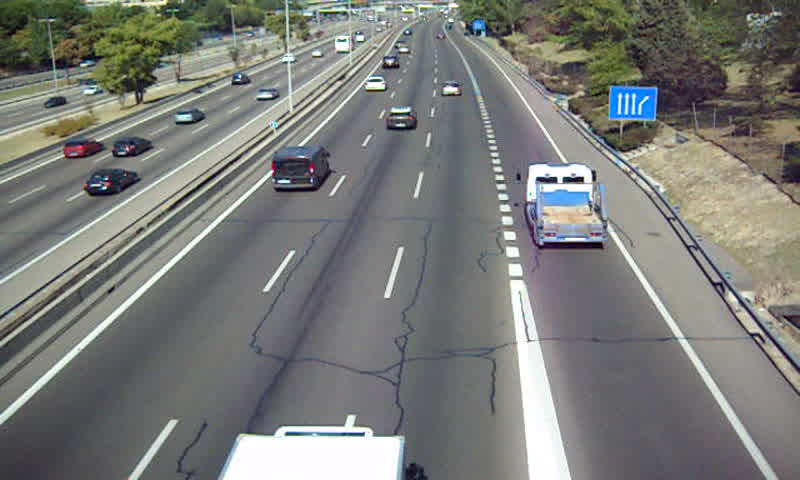car: (386, 106, 415, 131), (440, 81, 463, 99), (363, 76, 386, 92), (381, 54, 400, 70)
small-truck: (525, 164, 609, 243)
van: (274, 146, 330, 189)
